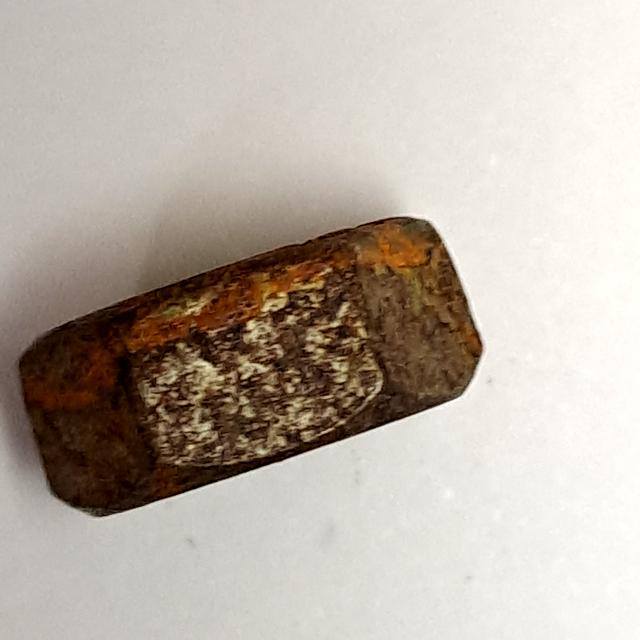Side_Rust: (2, 194, 497, 523)
